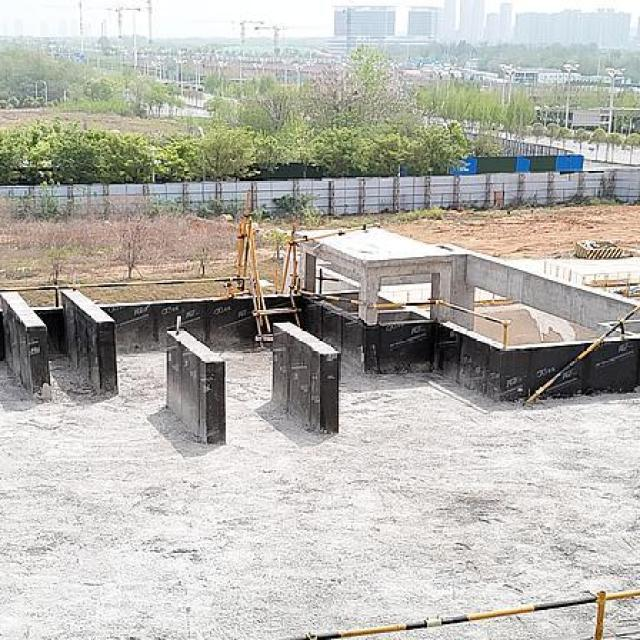edge_guardrail: (278, 588, 640, 640), (290, 283, 513, 348), (524, 304, 640, 409), (0, 278, 251, 308)
